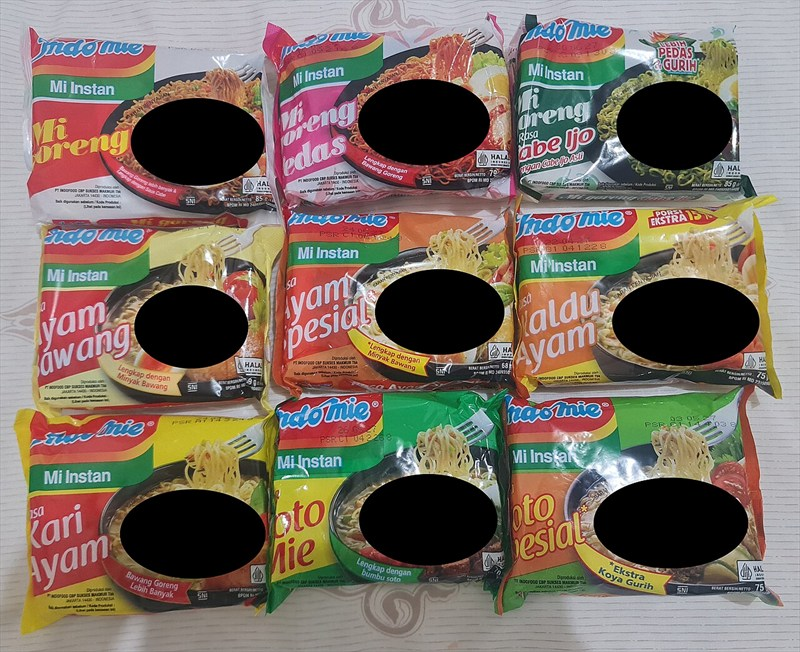Mie Goreng: (107, 70, 708, 577)
